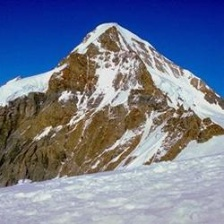neutral: (2, 3, 222, 224)
